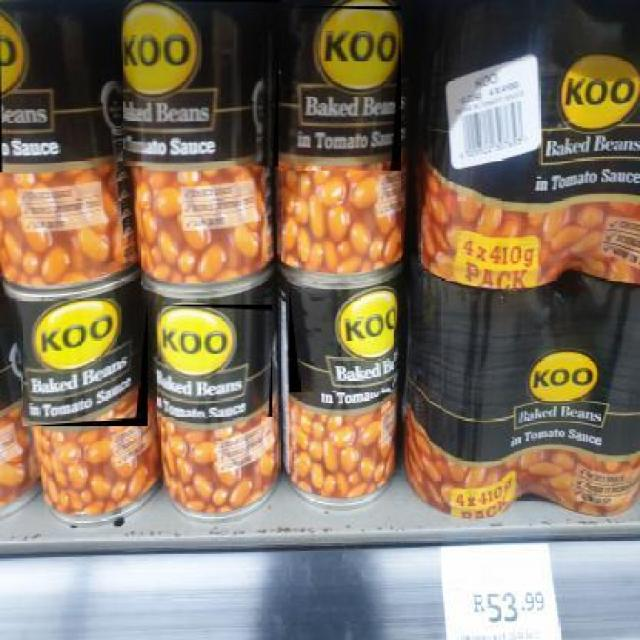Beans: (122, 0, 281, 168), (278, 6, 402, 172), (0, 21, 125, 174), (23, 298, 149, 428), (158, 304, 274, 418), (290, 286, 396, 394)
